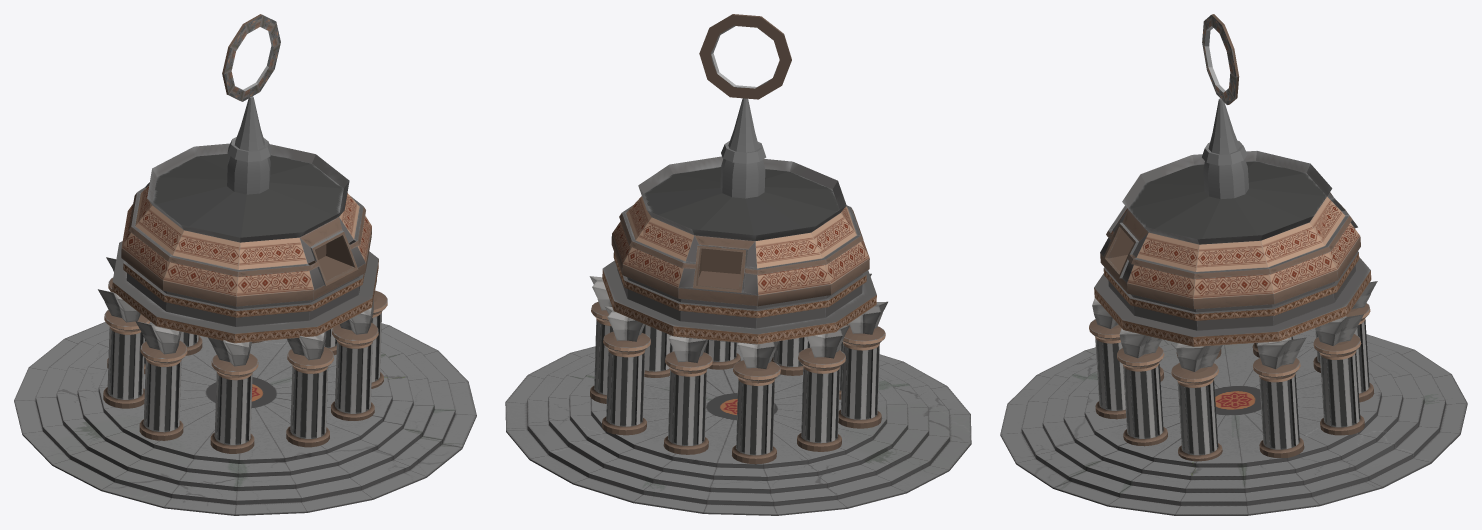
File: Temple.fbx
3 views of the same model, side by side, from view 1: azimuth 30°, elevation 25°; view 2: azimuth 150°, elevation 25°; view 3: azimuth 270°, elevation 25° (orthographic).
Visible parts, largest first — view 1: polySurface604, steps; view 2: polySurface604, steps; view 3: polySurface604, steps.
Boxes of the visible parts, <box> form: polySurface604: <box>98,14,387,453</box>; steps: <box>14,322,476,515</box>; polySurface604: <box>589,14,887,464</box>; steps: <box>505,342,971,515</box>; polySurface604: <box>1089,14,1377,461</box>; steps: <box>1000,328,1467,515</box>.
Bounding box in the file's own units: 346 × 335 × 345.
